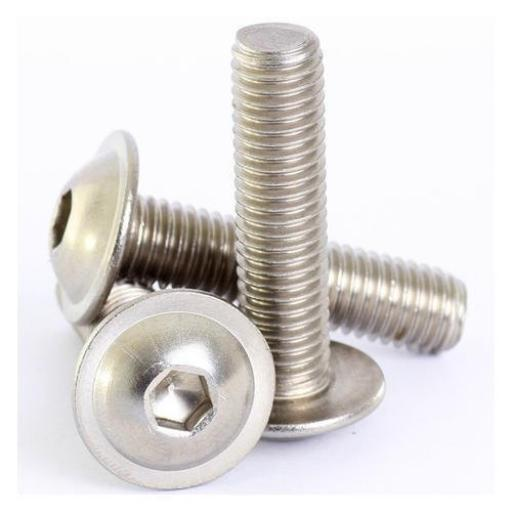Hex-Allen: (68, 290, 278, 496)
